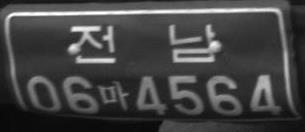0: (27, 75, 62, 112)
4: (250, 75, 283, 116), (135, 76, 167, 113)
5: (168, 74, 203, 115)
6: (206, 74, 243, 117), (63, 76, 98, 112)
마: (99, 80, 129, 109)
전남_D: (69, 24, 216, 62)
